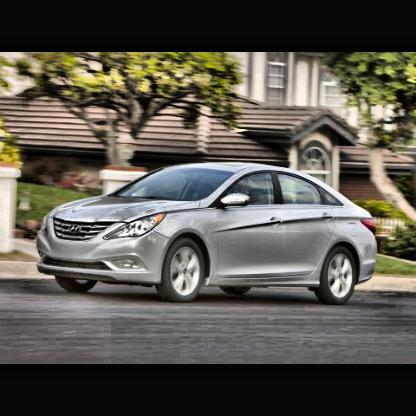Hyundai Sonata Sedan 2012: (35, 160, 381, 305)
